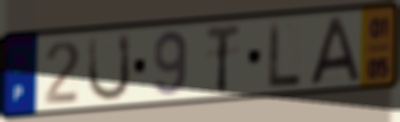2: (43, 39, 82, 106)
9: (152, 28, 190, 99)
A: (308, 14, 362, 88)
L: (267, 19, 303, 91)
T: (204, 22, 242, 97)
U: (86, 31, 133, 105)
